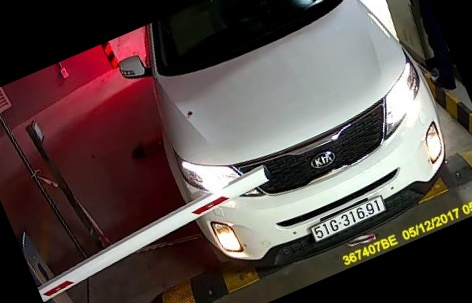plate: (298, 191, 394, 243)
